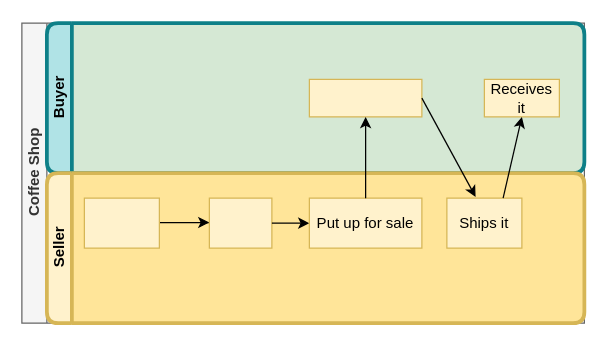
Image size: 608x346. Some labels were removed from this diagram. The shapes that lost their labels are listed below. From the top down, each one's centre as x and y in pixels, then its label:
point 365,97: Buys the item
point 121,222: Process
point 240,222: Pack
